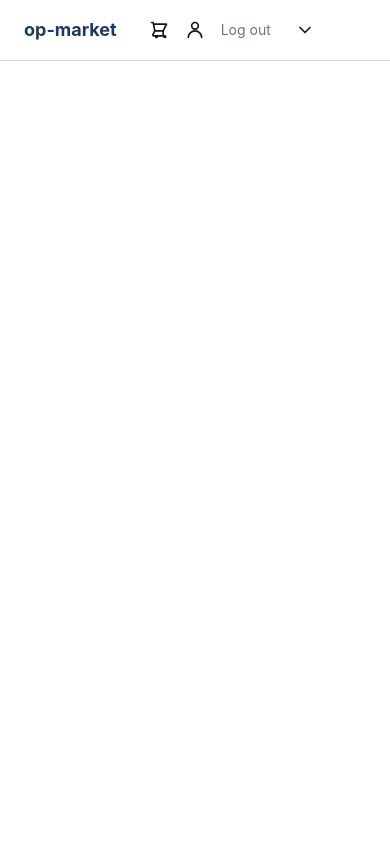
Header › mobile menu › clicking the overlay closes the menu
Click the button named "Open menu": (305,30) x1=287 y1=12 x2=323 y2=48
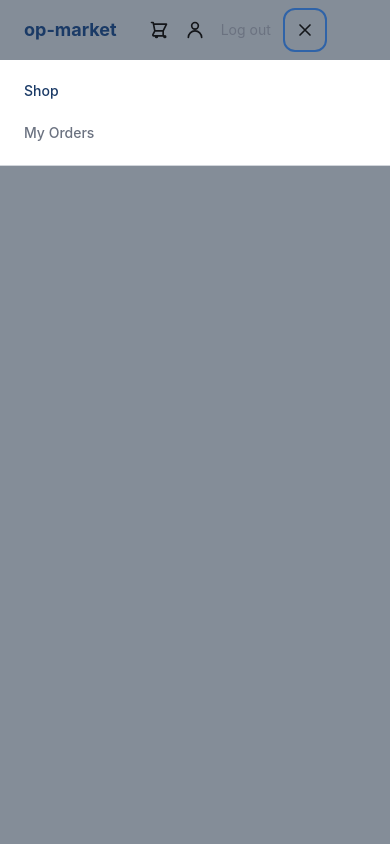
Click the element with test id "mobile-nav-overlay": (195,422) x1=0 y1=0 x2=389 y2=843
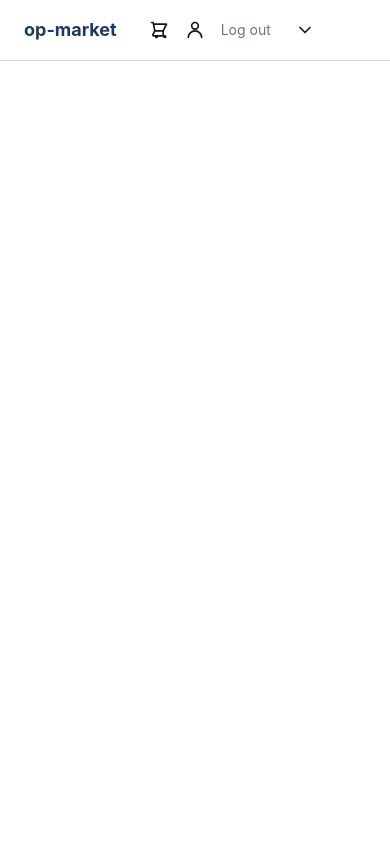
Result: the element with test id "mobile-nav-overlay" is gone
Result: the button named "Open menu" is collapsed at x1=287 y1=12 x2=323 y2=48
